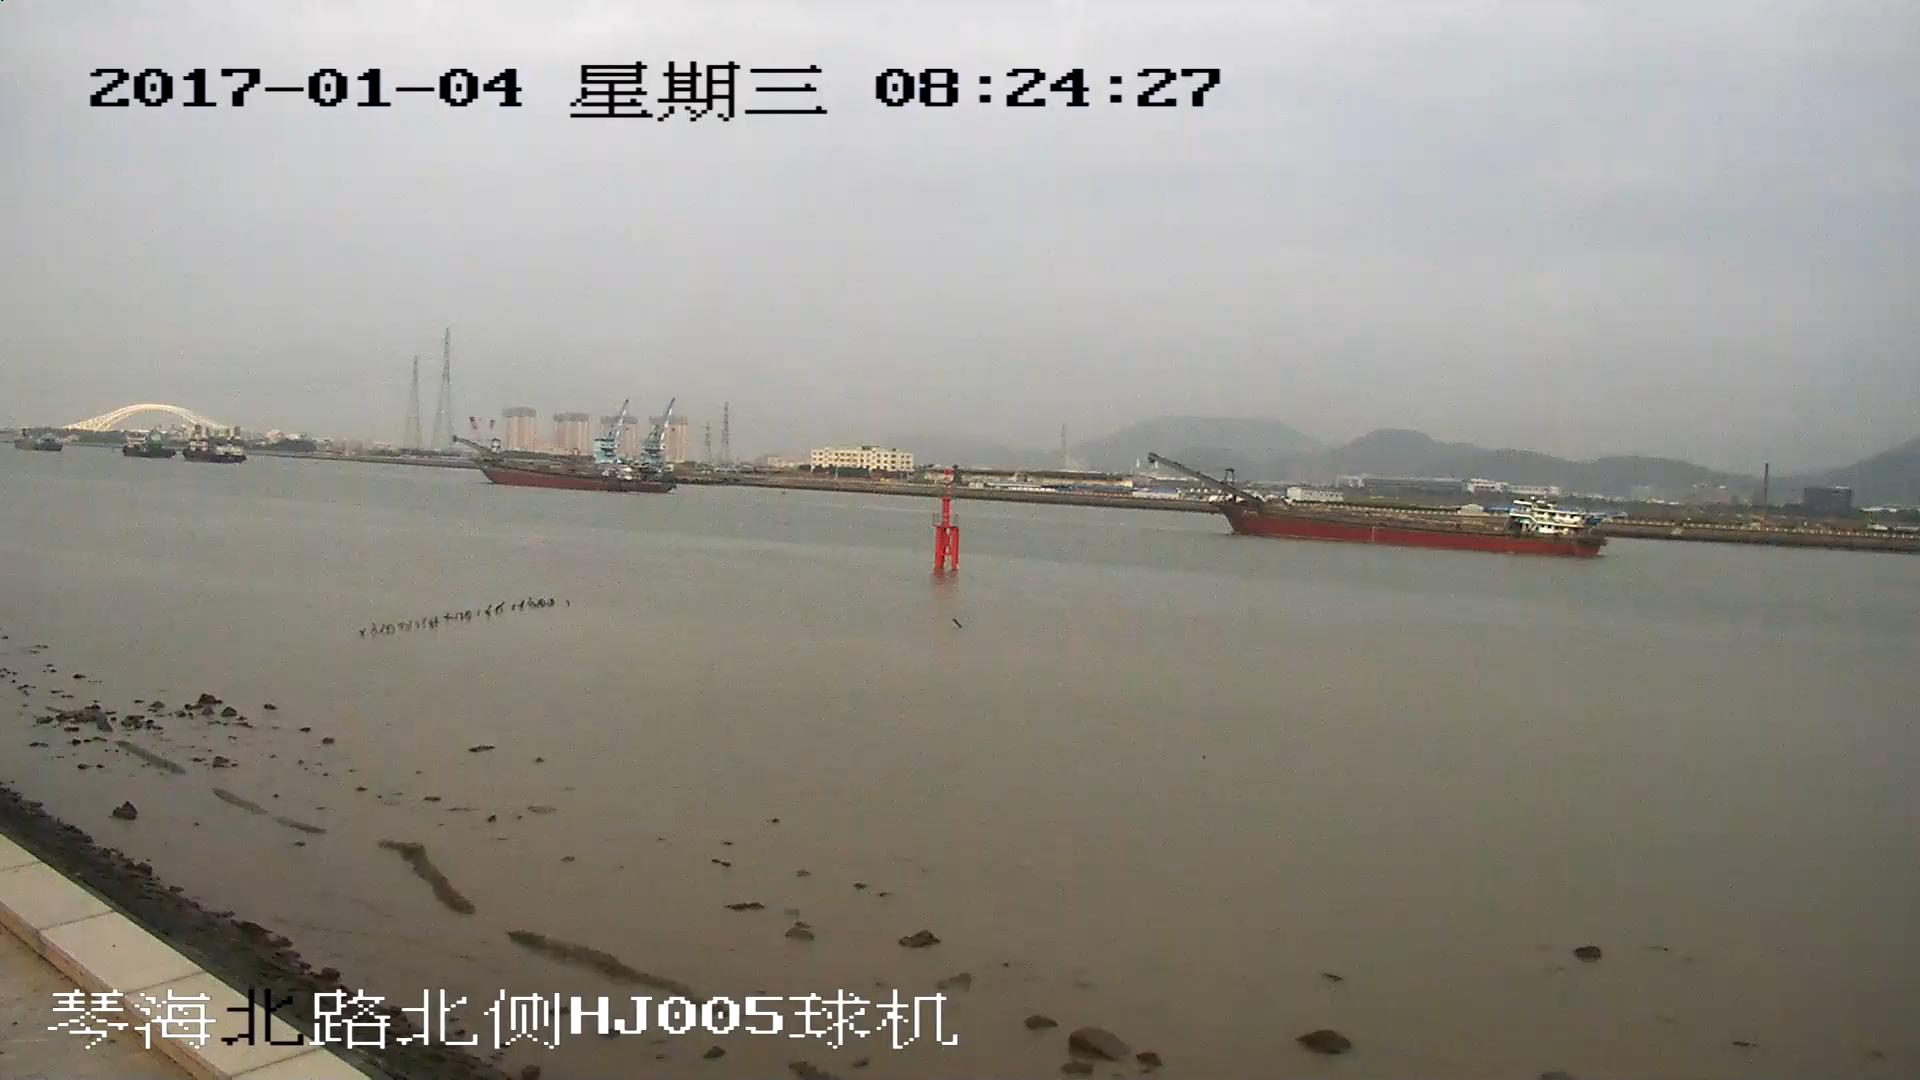bulk cargo carrier: (1151, 452, 1602, 555), (454, 435, 676, 490)
